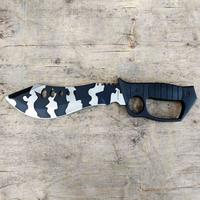knife: (5, 76, 197, 127)
